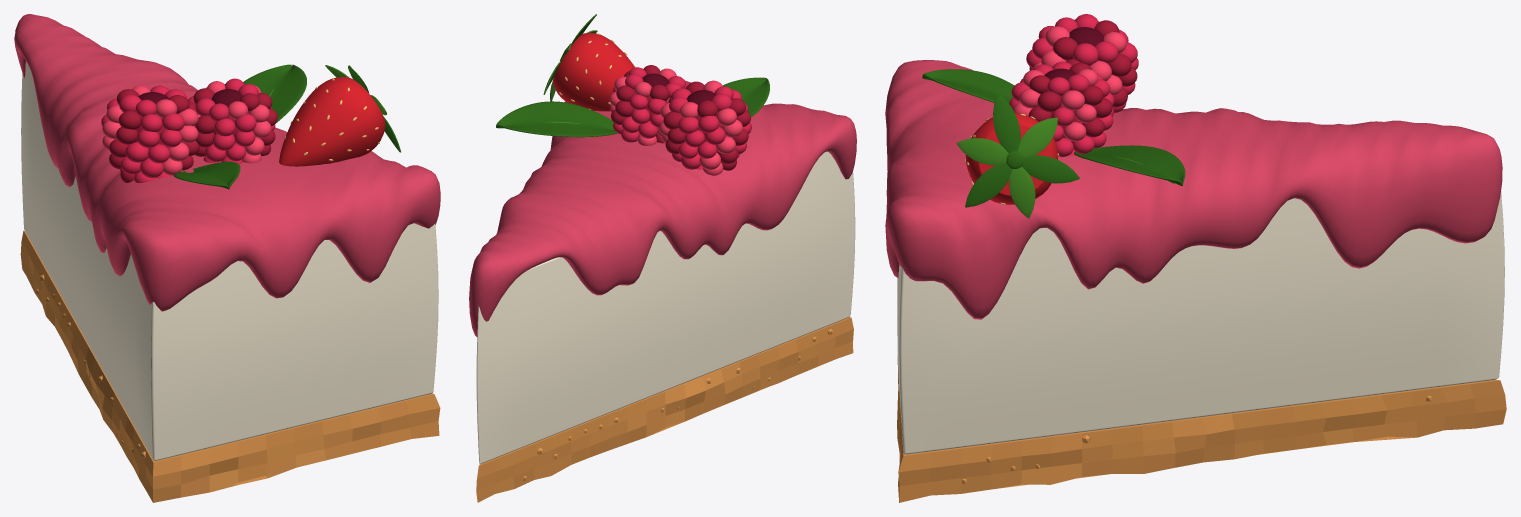
The model's file is edit_cake_berry.glb.
The picture shows the model from 3 angles, left to right: view 1: azimuth 30°, elevation 25°; view 2: azimuth 150°, elevation 25°; view 3: azimuth 270°, elevation 25°; orthographic projection. The views are drawn at different scales.
Visible parts, largest first — view 1: Cheese, Icing, Crust, Strawberry_Right_Flesh, Mint_Leaf_Rear_Blade, Mint_Leaf_Side_Blade; view 2: Cheese, Icing, Crust, Strawberry_Right_Flesh, Mint_Leaf_Rear_Blade, Mint_Leaf_Side_Blade; view 3: Cheese, Icing, Crust, Mint_Leaf_Rear_Blade, Mint_Leaf_Side_Blade, Strawberry_Right_Flesh, Strawberry_Right_Calyx_3, Strawberry_Right_Calyx_5, Strawberry_Right_Calyx_1, Strawberry_Right_Calyx_4, Strawberry_Right_Calyx_6, Strawberry_Right_Calyx_2.
Boxes of the visible parts, x1=… form: Cheese: x1=21, y1=61, x2=438, y2=460; Icing: x1=14, y1=14, x2=440, y2=311; Crust: x1=20, y1=230, x2=440, y2=502; Strawberry_Right_Flesh: x1=279, y1=77, x2=385, y2=166; Mint_Leaf_Rear_Blade: x1=243, y1=64, x2=306, y2=123; Mint_Leaf_Side_Blade: x1=174, y1=161, x2=240, y2=189; Cheese: x1=476, y1=151, x2=855, y2=463; Icing: x1=469, y1=80, x2=856, y2=336; Crust: x1=476, y1=317, x2=853, y2=502; Strawberry_Right_Flesh: x1=553, y1=33, x2=634, y2=111; Mint_Leaf_Rear_Blade: x1=496, y1=101, x2=617, y2=137; Mint_Leaf_Side_Blade: x1=722, y1=77, x2=769, y2=117; Cheese: x1=897, y1=191, x2=1504, y2=454; Icing: x1=885, y1=60, x2=1502, y2=319; Crust: x1=897, y1=356, x2=1506, y2=502; Mint_Leaf_Rear_Blade: x1=1074, y1=145, x2=1185, y2=185; Mint_Leaf_Side_Blade: x1=922, y1=69, x2=1014, y2=103; Strawberry_Right_Flesh: x1=965, y1=112, x2=1057, y2=204; Strawberry_Right_Calyx_3: x1=993, y1=93, x2=1020, y2=152; Strawberry_Right_Calyx_5: x1=965, y1=162, x2=1012, y2=207; Strawberry_Right_Calyx_1: x1=1022, y1=155, x2=1079, y2=183; Strawberry_Right_Calyx_4: x1=956, y1=138, x2=1008, y2=165; Strawberry_Right_Calyx_6: x1=1009, y1=166, x2=1035, y2=218; Strawberry_Right_Calyx_2: x1=1017, y1=117, x2=1057, y2=157.
Bounding box in the file's own units: 1.35 × 1.51 × 2.2.
